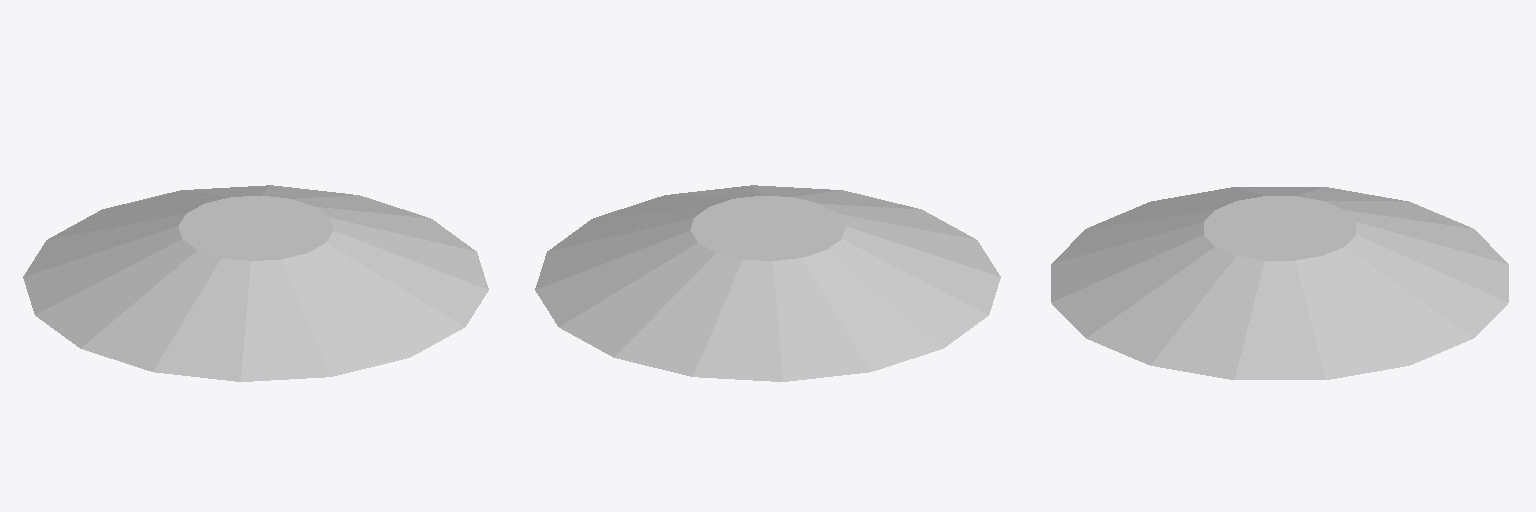
File: tucana_adapter_s1p5_s0_1_collider.obj
3 views of the same model, side by side, from view 1: azimuth 30°, elevation 25°; view 2: azimuth 150°, elevation 25°; view 3: azimuth 270°, elevation 25° (orthographic).
Parts seen in each view (by area): view 1: tucana_adapter_s1p5_s0_1_collider; view 2: tucana_adapter_s1p5_s0_1_collider; view 3: tucana_adapter_s1p5_s0_1_collider.
Boxes of the visible parts, <box> form: tucana_adapter_s1p5_s0_1_collider: <box>23,185,488,381</box>; tucana_adapter_s1p5_s0_1_collider: <box>535,185,1000,381</box>; tucana_adapter_s1p5_s0_1_collider: <box>1051,187,1508,379</box>.
Size of the model in its own units: 1.88 by 0.25 by 1.88.